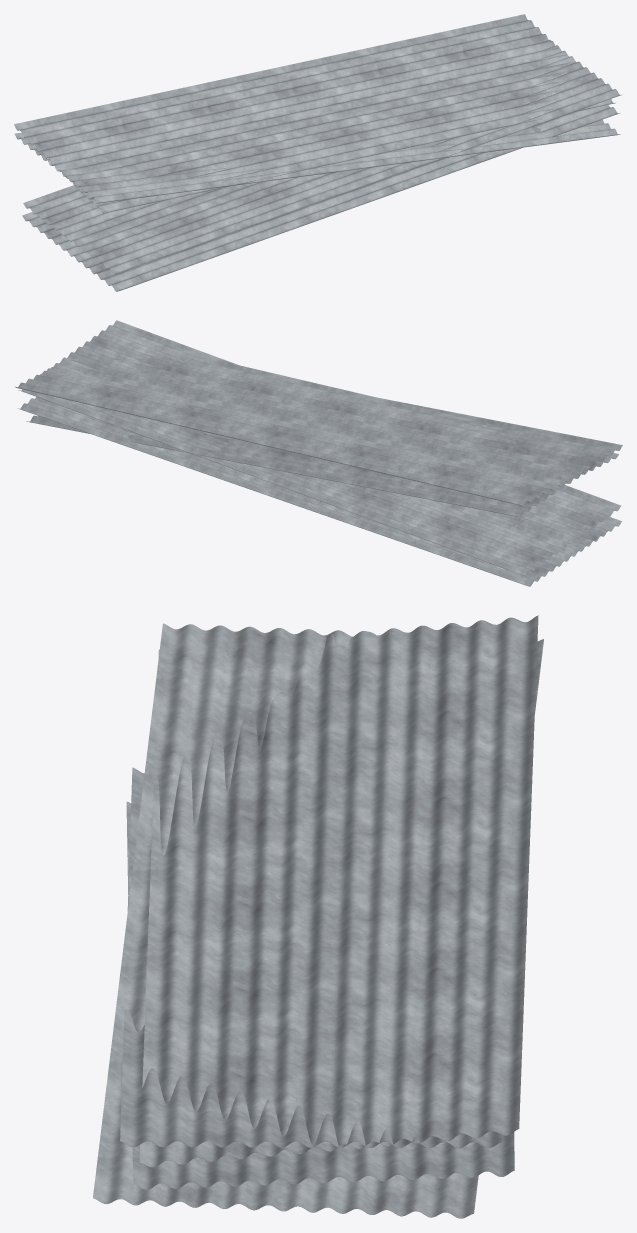
Rendered from COB-MTL-002_anim.glb.
3 renders of one model, top to bottom at view 1: azimuth 30°, elevation 25°; view 2: azimuth 150°, elevation 25°; view 3: azimuth 270°, elevation 25°, orthographic. The views are drawn at different scales.
Parts seen in each view (by area): view 1: COB-MTL-002_anim3, COB-MTL-002_anim1, COB-MTL-002_anim0, COB-MTL-002_anim2; view 2: COB-MTL-002_anim3, COB-MTL-002_anim1, COB-MTL-002_anim2, COB-MTL-002_anim0; view 3: COB-MTL-002_anim3, COB-MTL-002_anim2, COB-MTL-002_anim1, COB-MTL-002_anim0.
Boxes of the visible parts, x1=… form: COB-MTL-002_anim3: x1=14, y1=14, x2=615, y2=213; COB-MTL-002_anim1: x1=23, y1=40, x2=622, y2=274; COB-MTL-002_anim0: x1=22, y1=105, x2=620, y2=291; COB-MTL-002_anim2: x1=15, y1=119, x2=620, y2=203; COB-MTL-002_anim3: x1=15, y1=353, x2=618, y2=506; COB-MTL-002_anim1: x1=18, y1=320, x2=621, y2=576; COB-MTL-002_anim2: x1=26, y1=398, x2=622, y2=517; COB-MTL-002_anim0: x1=18, y1=397, x2=621, y2=586; COB-MTL-002_anim3: x1=139, y1=615, x2=538, y2=1167; COB-MTL-002_anim2: x1=93, y1=623, x2=543, y2=1218; COB-MTL-002_anim1: x1=120, y1=767, x2=502, y2=1148; COB-MTL-002_anim0: x1=126, y1=801, x2=514, y2=1189.
Bounding box in the file's own units: 3.05 × 0.5372 × 1.16.
Materials: 1 (1 with a texture image).
